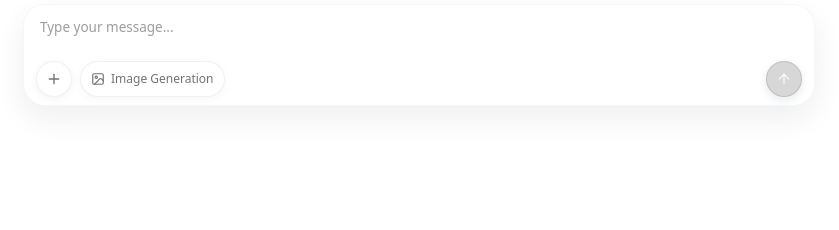
Test case: ThreadComposer › orders recent slash commands first for the blank slash menu
Type "/" into the text box named "Message input" at (419, 30), box [24, 5, 814, 55]
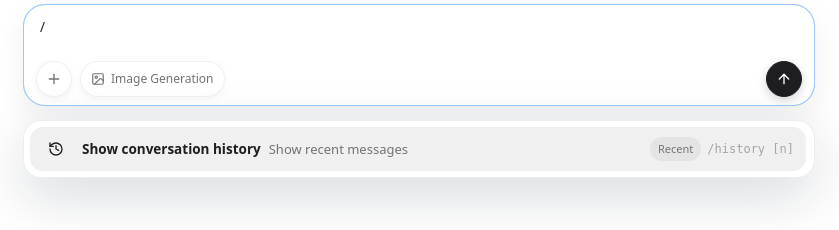
Result: the text "Recent" is shown at [650, 137, 701, 161]
